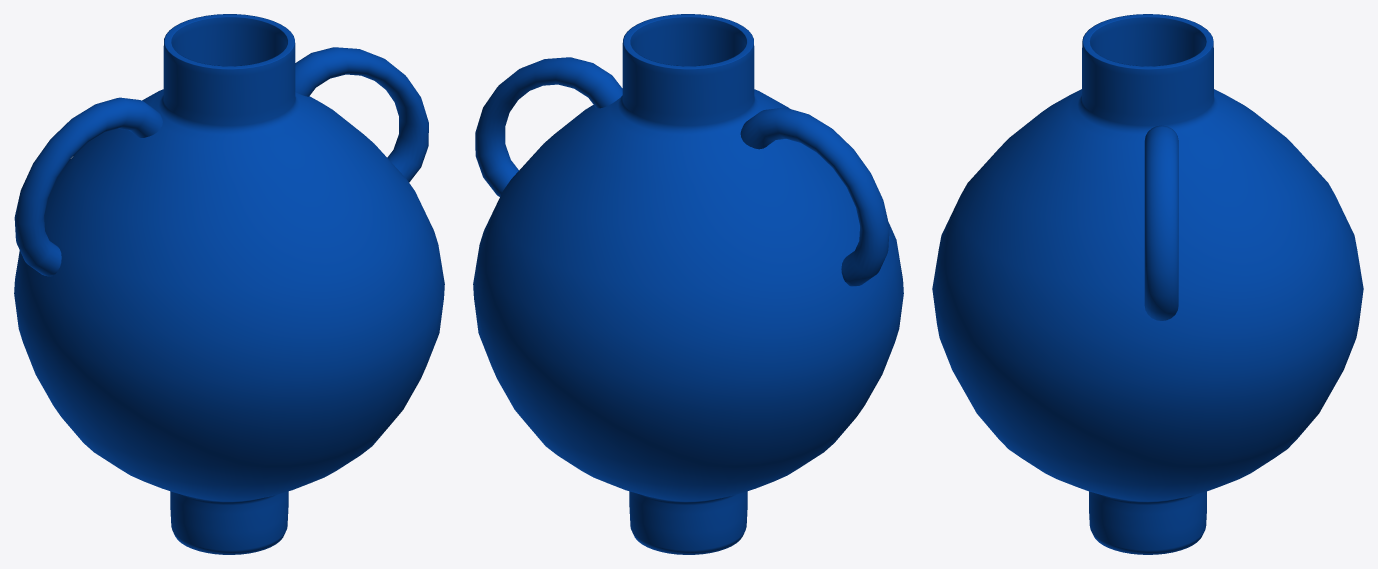
Rendered from Renai_Vase3.fbx.
The picture shows the model from 3 angles, left to right: view 1: azimuth 30°, elevation 25°; view 2: azimuth 150°, elevation 25°; view 3: azimuth 270°, elevation 25°; orthographic projection.
Parts seen in each view (by area): view 1: vaseBase, vaseHandle, vaseHandle1; view 2: vaseBase, vaseHandle, vaseHandle1; view 3: vaseBase, vaseHandle1.
Part boxes in pixels (left/top/right/bottom): vaseBase: left=14, top=14, right=444, bottom=554; vaseHandle: left=14, top=97, right=162, bottom=276; vaseHandle1: left=295, top=47, right=428, bottom=182; vaseBase: left=473, top=14, right=903, bottom=554; vaseHandle: left=740, top=107, right=889, bottom=286; vaseHandle1: left=475, top=57, right=622, bottom=196; vaseBase: left=932, top=14, right=1363, bottom=554; vaseHandle1: left=1144, top=125, right=1178, bottom=320.
Size of the model in its own units: 1.09 by 1.24 by 0.9931.
Materials: 1 (1 with a texture image).
